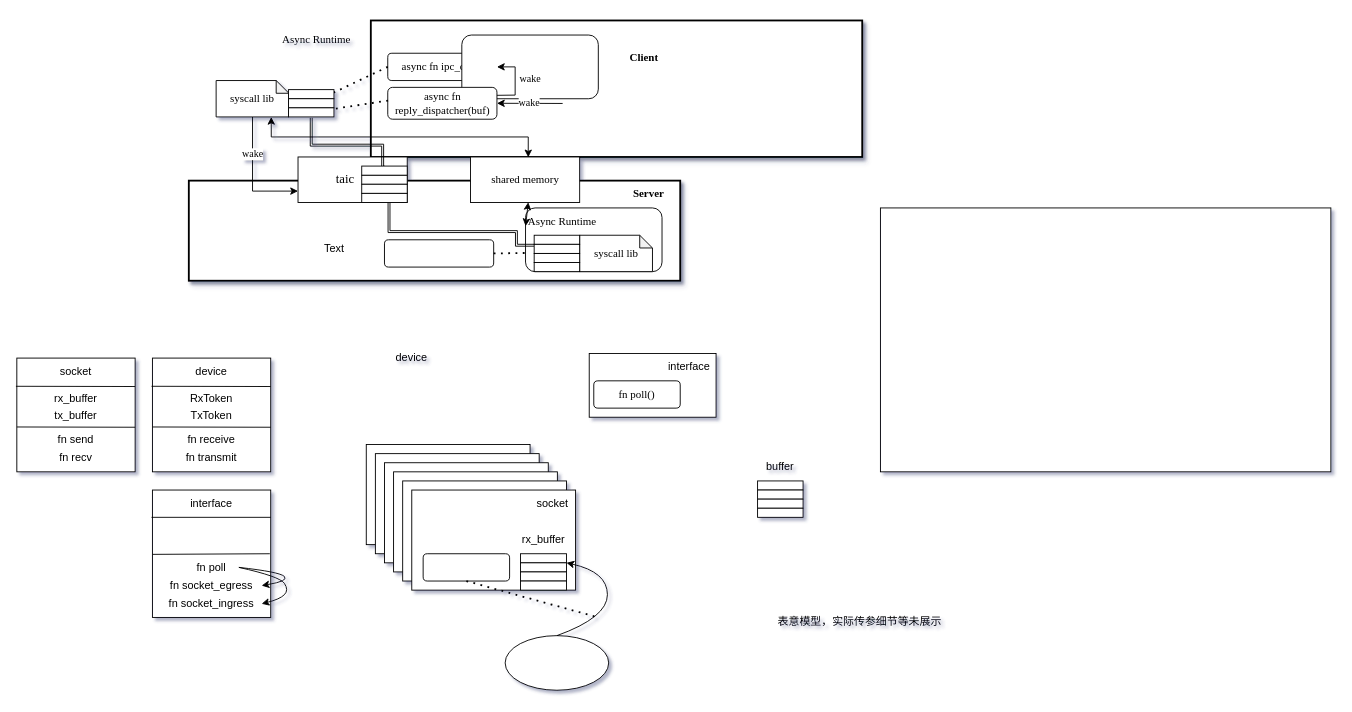
This 1352x712 diagram has some shape labels left out. The centre of each missing label's shape, as x and y in pixels:
"async fn req_ dispatcher (buf)" goes at point (439, 253).
"data_to_send" goes at point (556, 662).
"fn send ()" goes at point (466, 567).
